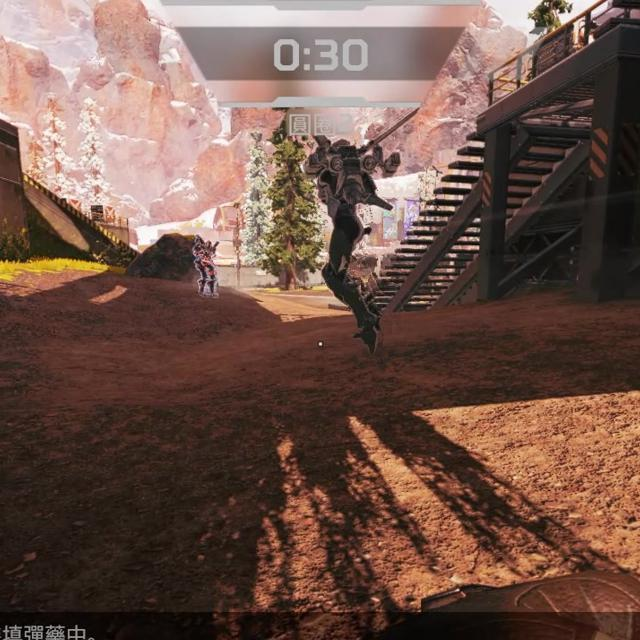avatar: (298, 134, 403, 354), (191, 236, 221, 296)
